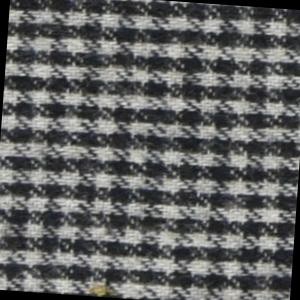Stain: (84, 284, 124, 300)
